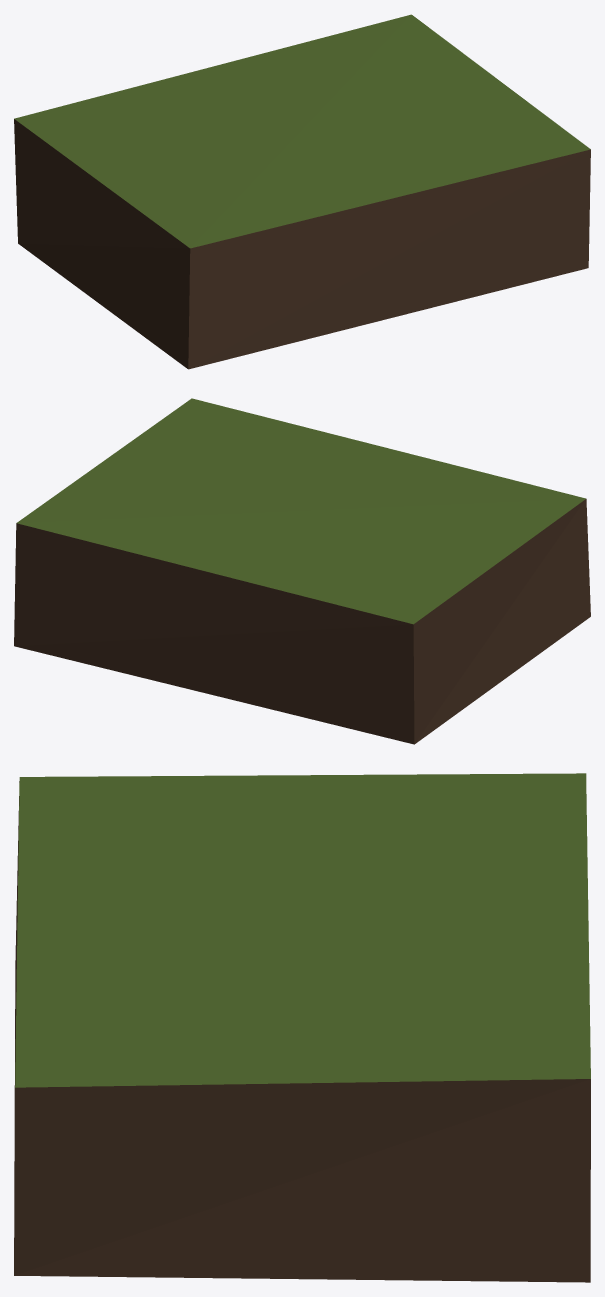
File: c4_toerv.glb
3 renders of one model, top to bottom at view 1: azimuth 30°, elevation 25°; view 2: azimuth 150°, elevation 25°; view 3: azimuth 270°, elevation 25°, orthographic. The views are drawn at different scales.
Parts seen in each view (by area): view 1: C4_graestoerv; view 2: C4_graestoerv; view 3: C4_graestoerv.
Part boxes in pixels (x1=…): C4_graestoerv: x1=14, y1=14, x2=590, y2=369; C4_graestoerv: x1=14, y1=398, x2=590, y2=744; C4_graestoerv: x1=14, y1=773, x2=590, y2=1282.
Size of the model in its own units: 0.5092 by 0.1557 by 0.3899.
